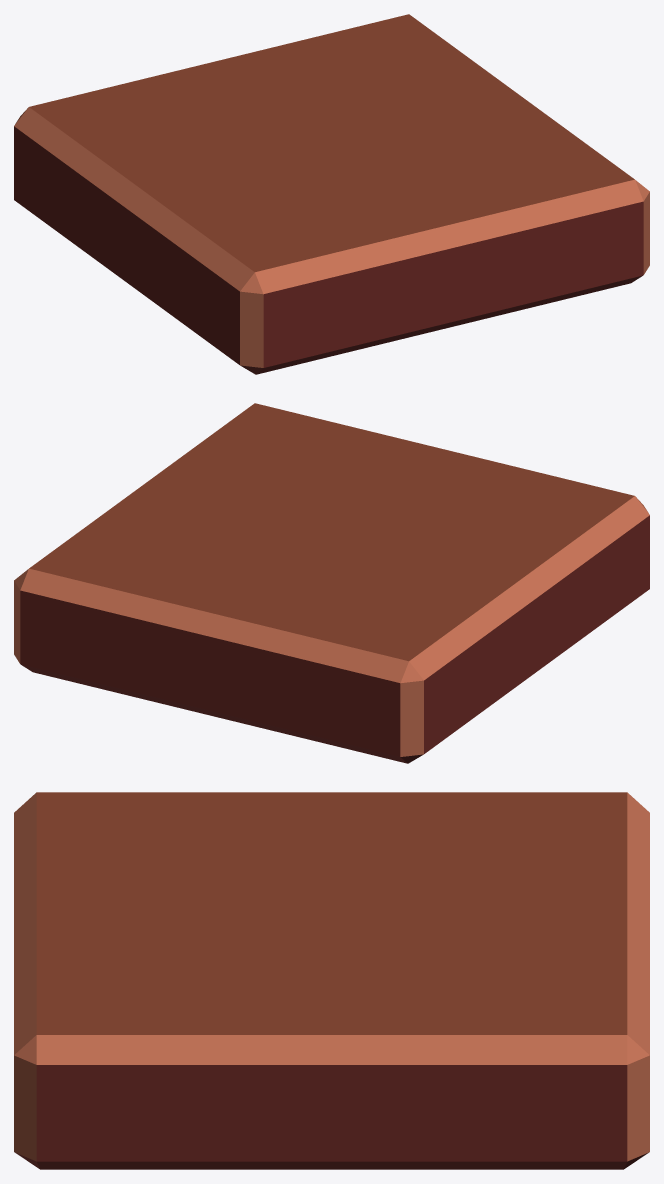
Rendered from BedTable.fbx.
The picture shows the model from 3 angles, top to bottom: view 1: azimuth 30°, elevation 25°; view 2: azimuth 150°, elevation 25°; view 3: azimuth 270°, elevation 25°; orthographic projection. The views are drawn at different scales.
Visible parts, largest first — view 1: BedTable; view 2: BedTable; view 3: BedTable.
Boxes of the visible parts, x1,y1,x2,y2 form: BedTable: (14, 14, 649, 374); BedTable: (14, 403, 649, 763); BedTable: (14, 792, 649, 1169).
Size of the model in its own units: 74.16 by 18 by 76.18.
